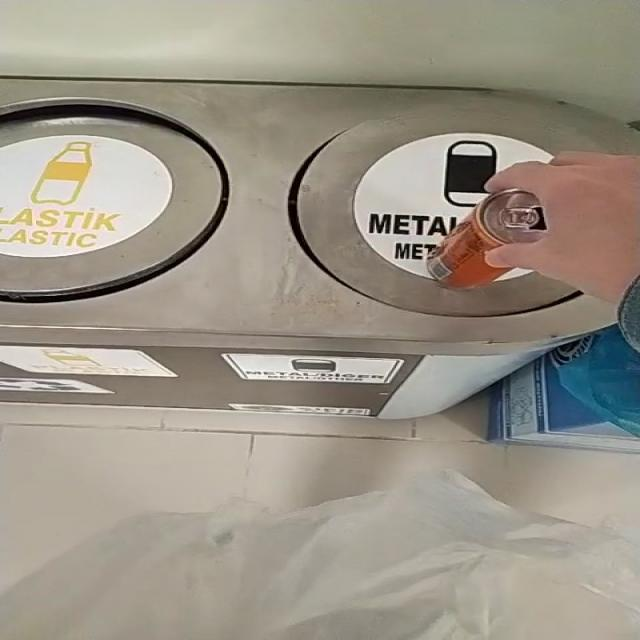bin: (0, 78, 637, 419)
metal: (428, 188, 548, 289)
